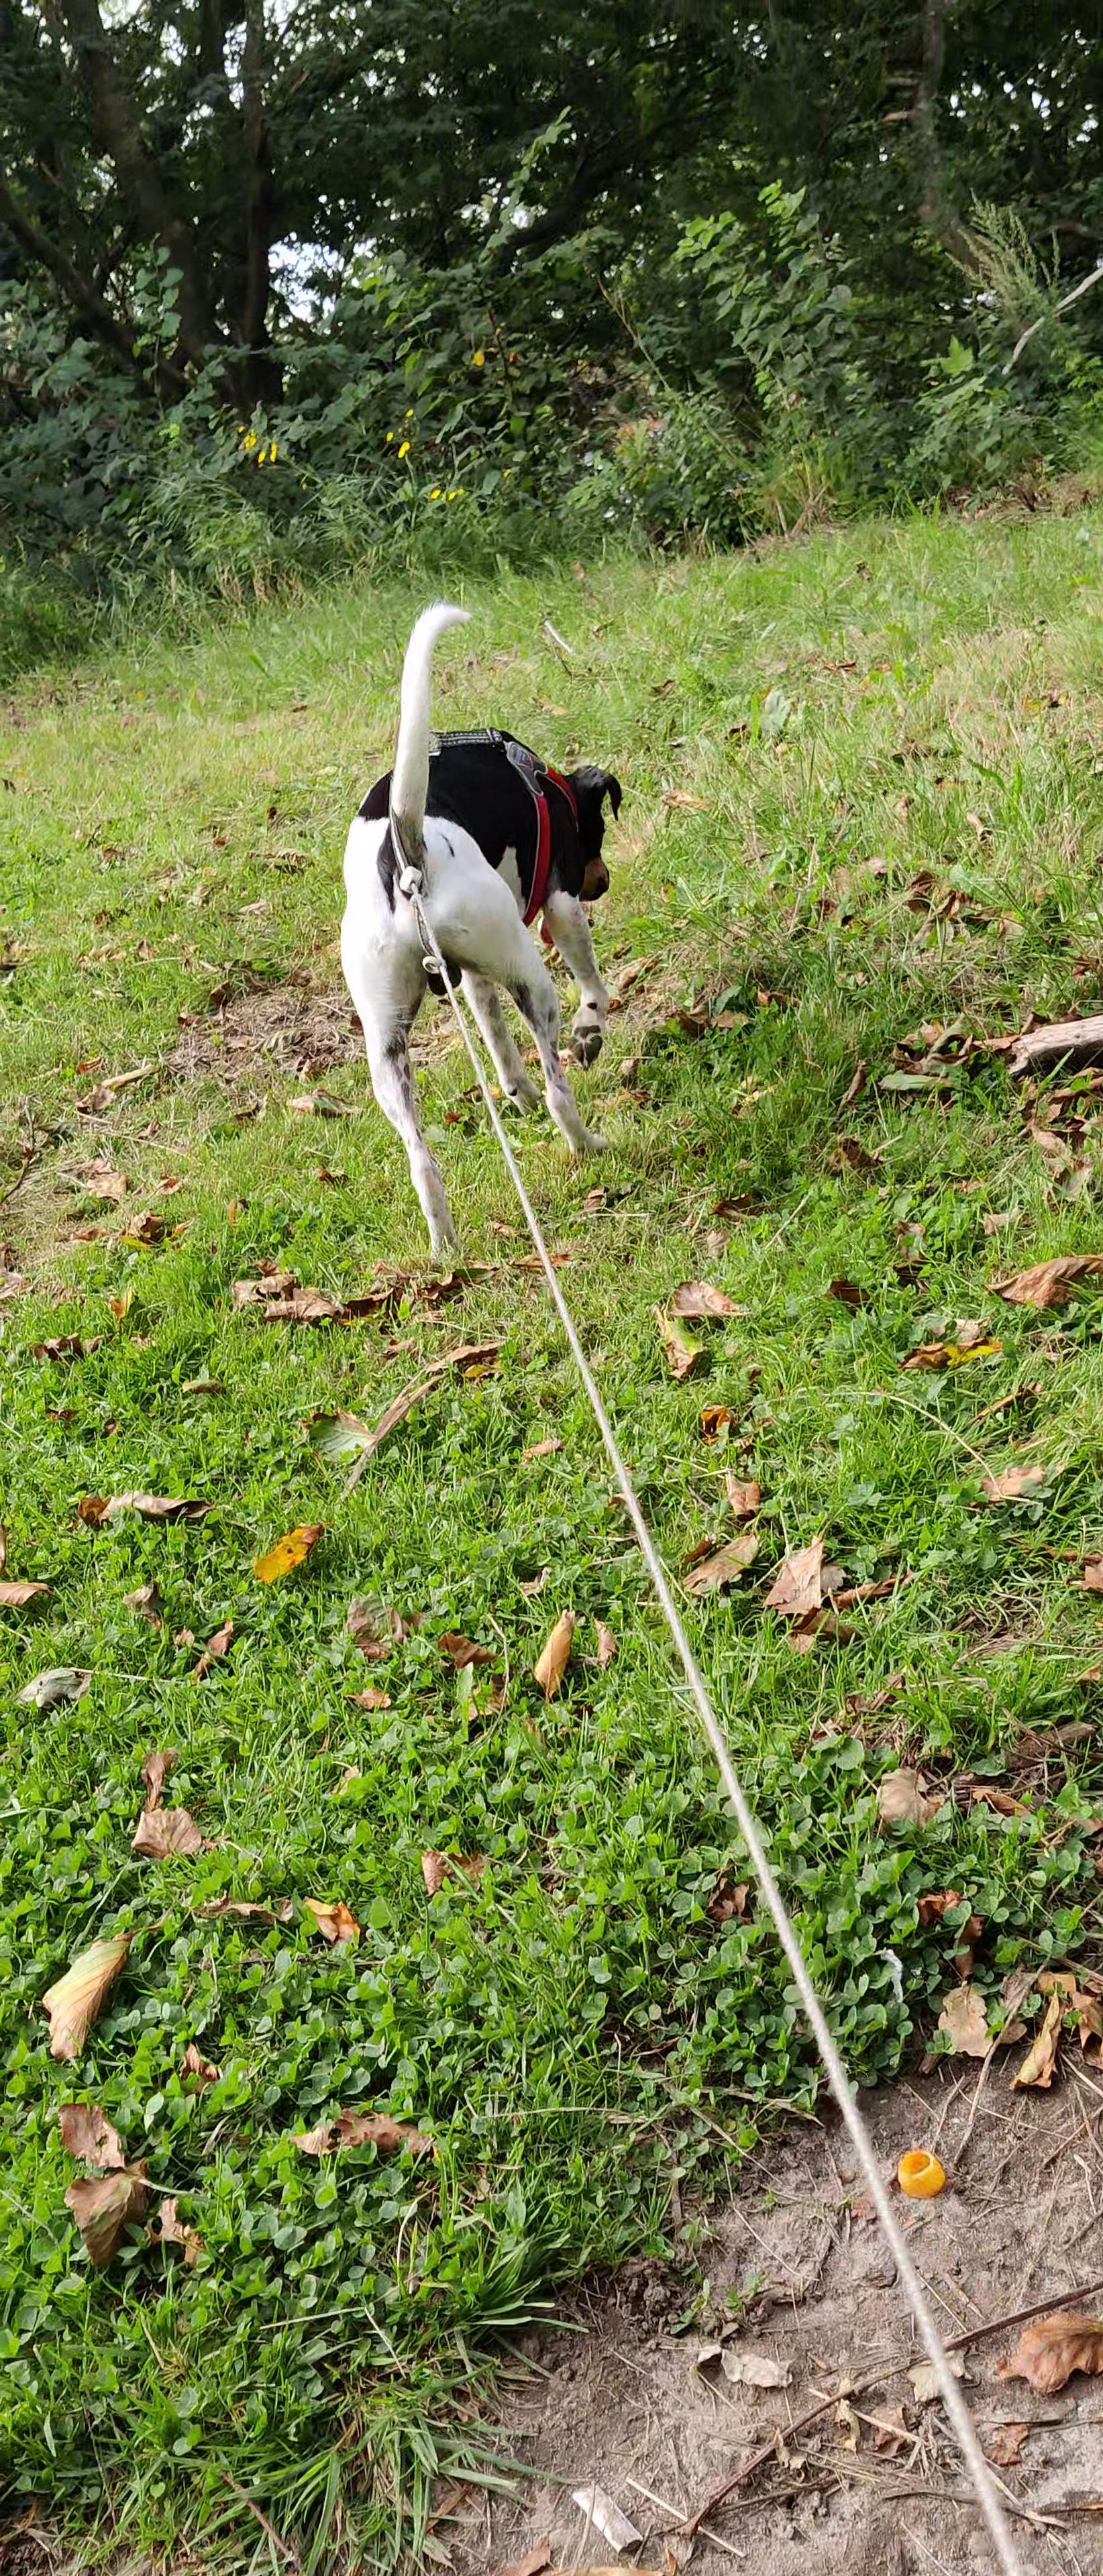Dog: (296, 586, 656, 1268)
